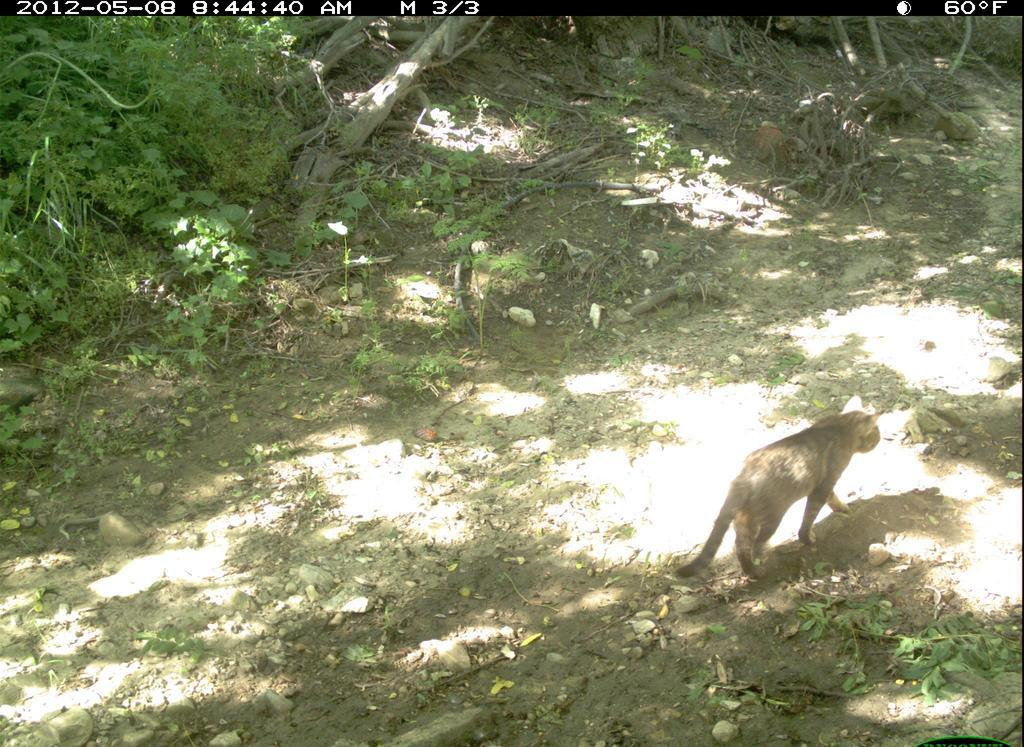cat: (670, 391, 889, 589)
